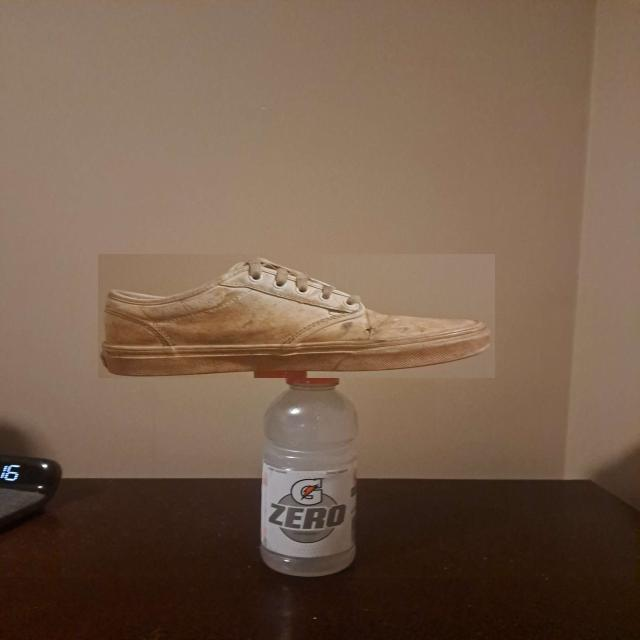shoe: (98, 254, 495, 378)
